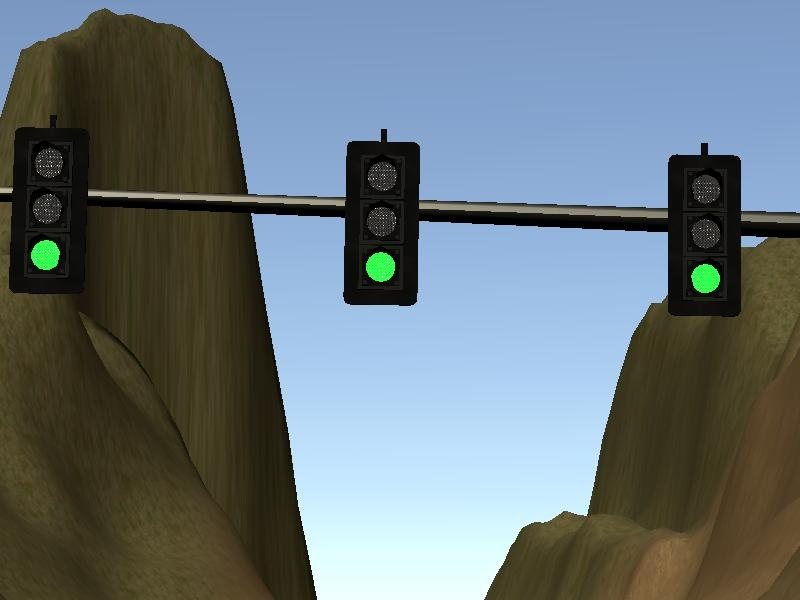green: (13, 129, 89, 295), (344, 141, 420, 307), (666, 155, 742, 321)
